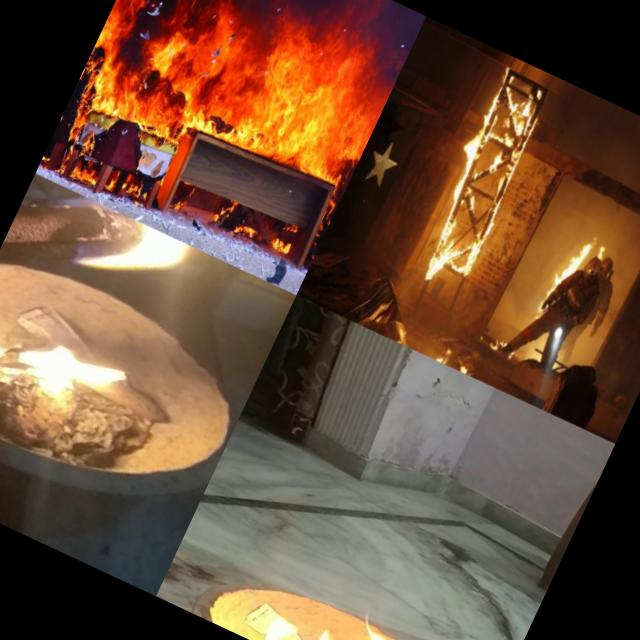fire: (39, 0, 408, 287), (409, 59, 558, 291), (52, 194, 228, 318), (0, 300, 125, 427), (225, 563, 416, 640), (547, 232, 593, 296), (432, 344, 478, 376), (486, 328, 522, 364)
